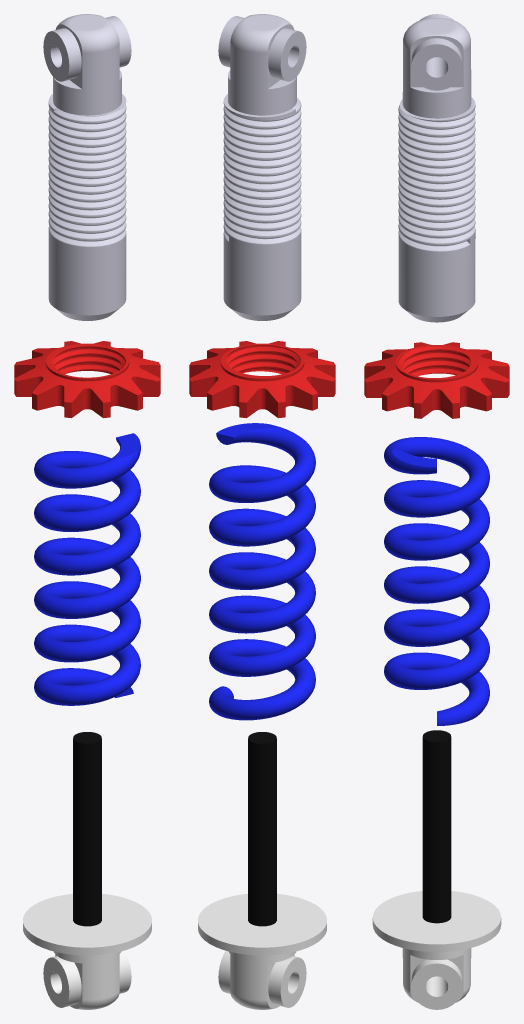
The model's file is Suspension_ex.glb.
3 views of the same model, side by side, from view 1: azimuth 30°, elevation 25°; view 2: azimuth 150°, elevation 25°; view 3: azimuth 270°, elevation 25° (orthographic).
Parts seen in each view (by area): view 1: ROD, SPRING, BASE, NUT, BASE.001; view 2: ROD, SPRING, BASE, NUT, BASE.001; view 3: ROD, SPRING, BASE, NUT, BASE.001.
Boxes of the visible parts, box(x1,y1,x2,y2) form: ROD: box(43, 14, 131, 320); SPRING: box(34, 433, 140, 705); BASE: box(23, 893, 151, 1009); NUT: box(14, 341, 160, 418); BASE.001: box(73, 732, 101, 926); ROD: box(218, 14, 306, 320); SPRING: box(209, 423, 315, 720); BASE: box(198, 893, 326, 1009); NUT: box(189, 341, 335, 418); BASE.001: box(248, 732, 276, 926); ROD: box(398, 14, 475, 322); SPRING: box(384, 437, 489, 725); BASE: box(372, 891, 501, 1009); NUT: box(364, 342, 509, 418); BASE.001: box(422, 730, 451, 923).
Size of the model in its own units: 0.0508 by 0.3753 by 0.0508.
